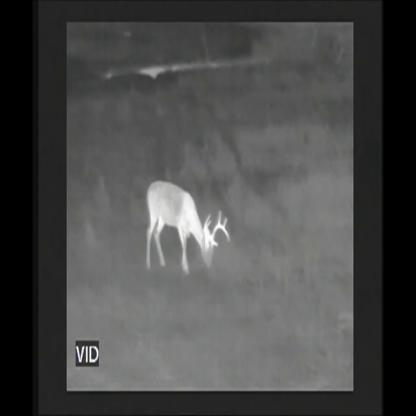rehkitze: (142, 179, 233, 275)
